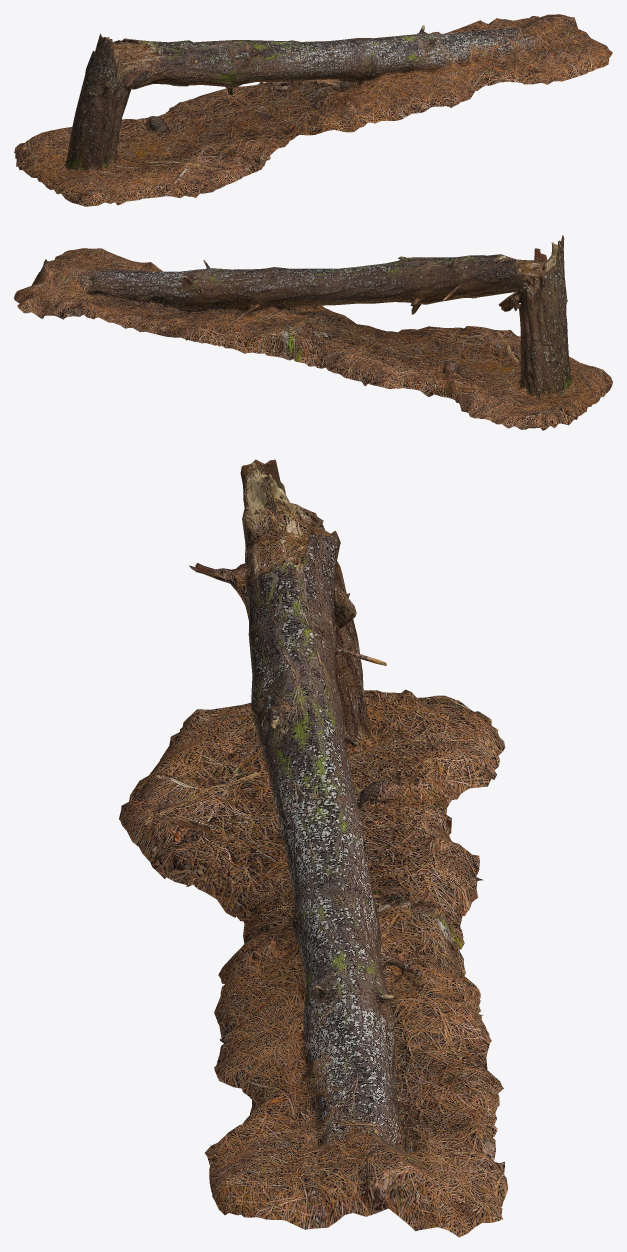
Rendered from fallen_pine.glb.
3 renders of one model, top to bottom at view 1: azimuth 30°, elevation 25°; view 2: azimuth 150°, elevation 25°; view 3: azimuth 270°, elevation 25°, orthographic. The views are drawn at different scales.
Visible parts, largest first — view 1: fallenPine_S_Fallen_Pine_Tree_rfgxx_lod3_LOD1; view 2: fallenPine_S_Fallen_Pine_Tree_rfgxx_lod3_LOD1; view 3: fallenPine_S_Fallen_Pine_Tree_rfgxx_lod3_LOD1.
Boxes of the visible parts, box(x1,y1,x2,y2) form: fallenPine_S_Fallen_Pine_Tree_rfgxx_lod3_LOD1: box(14, 14, 612, 206); fallenPine_S_Fallen_Pine_Tree_rfgxx_lod3_LOD1: box(14, 235, 612, 430); fallenPine_S_Fallen_Pine_Tree_rfgxx_lod3_LOD1: box(119, 459, 507, 1237).
Bounding box in the file's own units: 8.29 × 2.15 × 2.55.
Materials: 1 (1 with a texture image).
